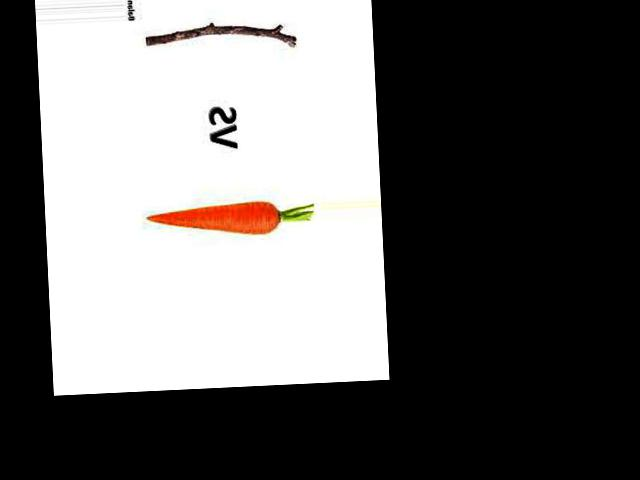carrot: (142, 191, 284, 246)
